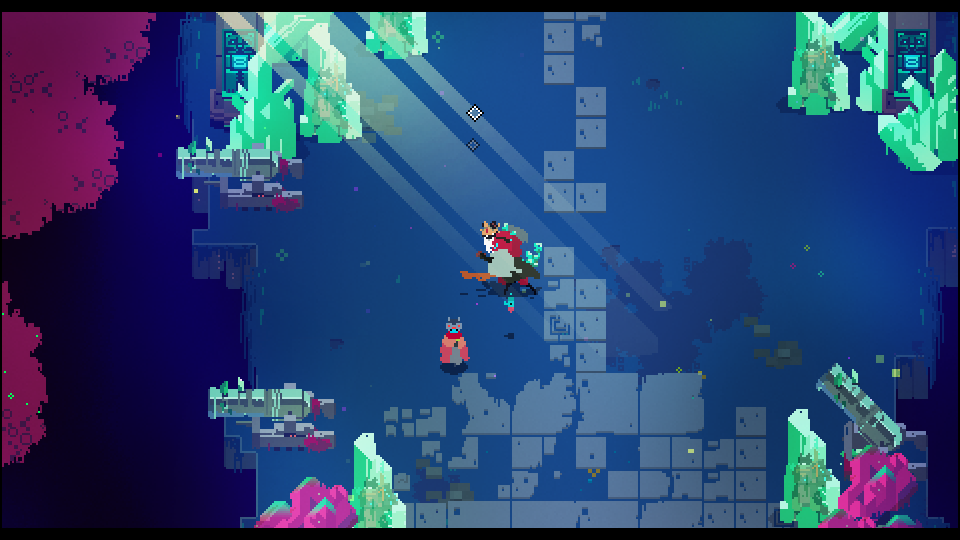hanged_man: (476, 221, 540, 296)
player: (440, 322, 468, 371)
